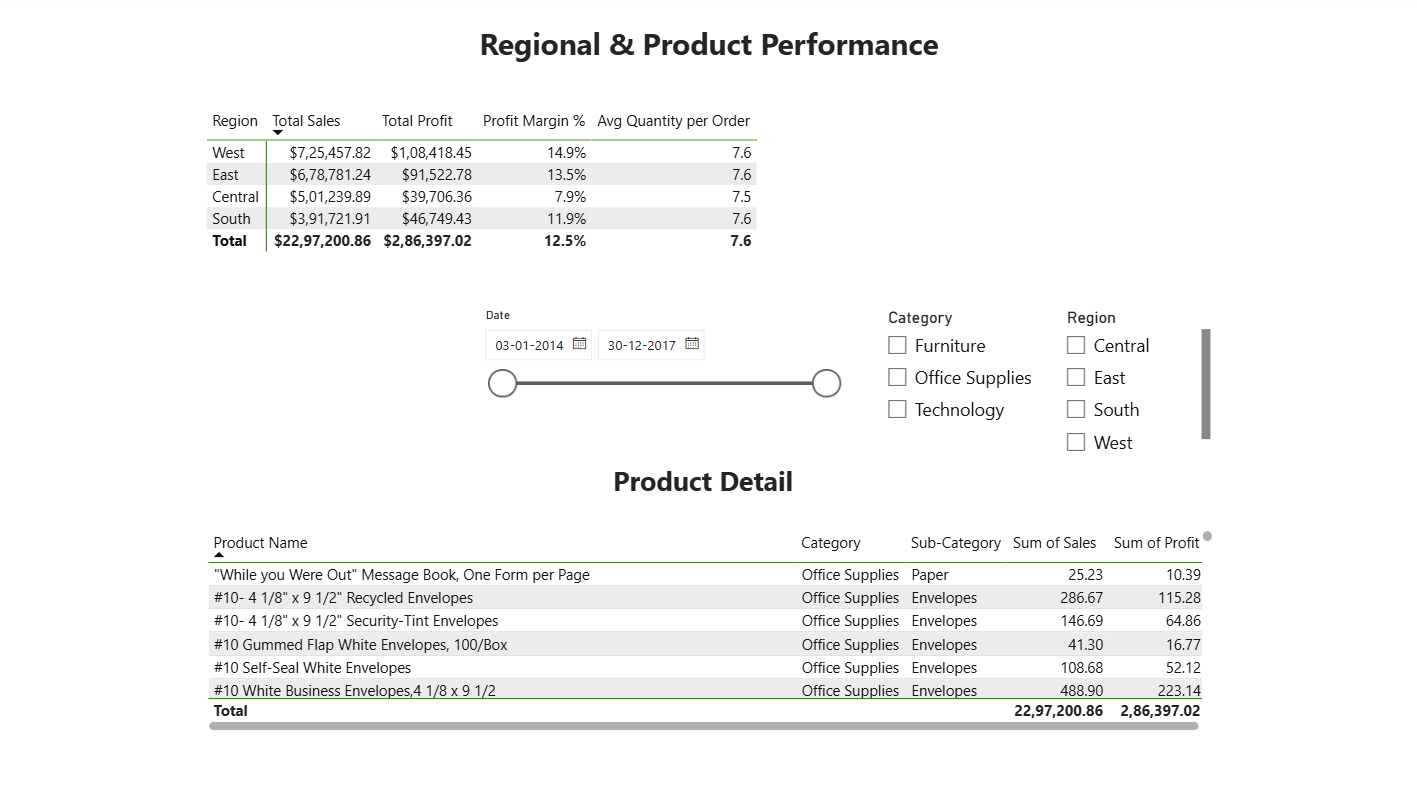

What the dashboard file says about the page in this screenshot:
{"tool":"powerbi","page":{"name":"Regional & Product Performance","canvas":[1280,720],"ordinal":2},"visuals":[{"type":"pivotTable","fields":{"Rows":["superstore.Region"],"Values":["Date.Total Sales","Date.Total Profit","Date.Profit Margin %","Date.Avg Quantity per Order"]},"box":[181.1,97.4,507.7,170.2],"z":0},{"type":"textbox","box":[426.8,20.6,424,48],"z":1000},{"type":"slicer","fields":{"Values":["Date.Date"]},"box":[425.4,277.2,341.7,98.8],"z":2000},{"type":"tableEx","fields":{"Values":["superstore.Product Name","superstore.Category","superstore.Sub-Category","Sum(superstore.Sales)","Sum(superstore.Profit)"]},"box":[181.1,477.5,916.6,190.7],"z":3000},{"type":"textbox","box":[547.5,417.2,181.1,49.4],"z":4000},{"type":"slicer","fields":{"Values":["superstore.Region"]},"box":[949.6,277.2,147.1,140],"z":5000},{"type":"slicer","fields":{"Values":["superstore.Category"]},"box":[787.7,277.2,161.4,121.4],"z":6000}]}

Visuals, with their boxes in screenshot pixels (x1, y1, x2, y2), scaled from the page's 1280x720 canvas onto the 1417x790 screenshot:
pivotTable - superstore.Region x Date.Total Sales: [left=200, top=107, right=763, bottom=294]
textbox: [left=472, top=23, right=942, bottom=75]
slicer - Date.Date: [left=471, top=304, right=849, bottom=413]
tableEx - superstore.Product Name x superstore.Category: [left=200, top=524, right=1215, bottom=733]
textbox: [left=606, top=458, right=807, bottom=512]
slicer - superstore.Region: [left=1051, top=304, right=1214, bottom=458]
slicer - superstore.Category: [left=872, top=304, right=1051, bottom=437]
